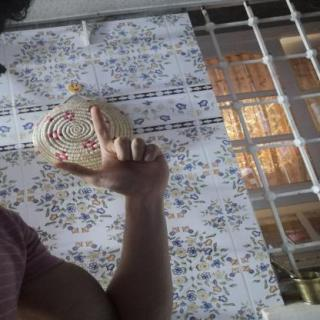LAAM: (41, 99, 179, 201)
